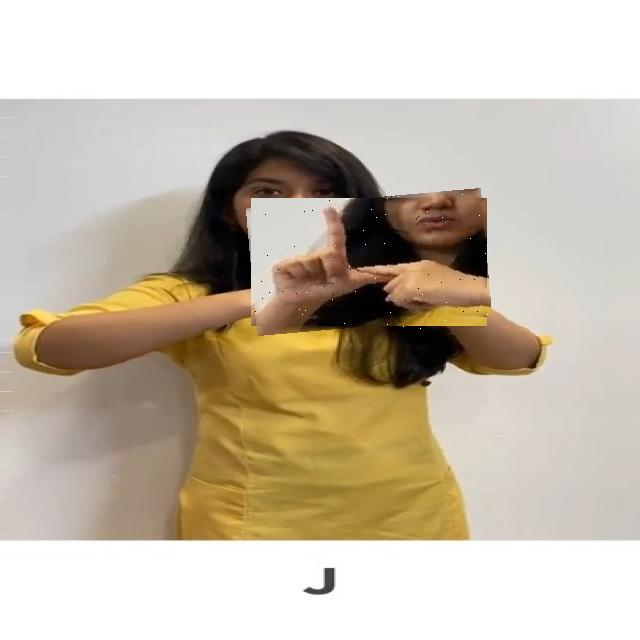J: (248, 193, 490, 331)
